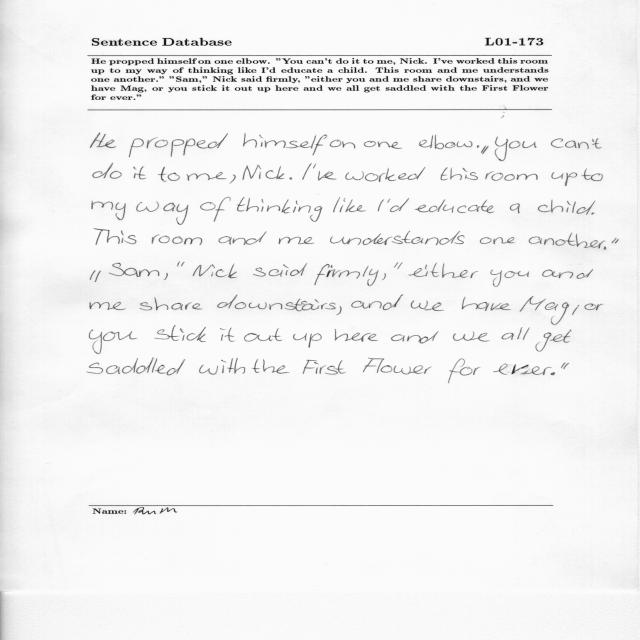word: (129, 134, 228, 158), (237, 197, 322, 222), (217, 295, 336, 312), (330, 231, 464, 245), (243, 133, 327, 155), (87, 358, 185, 376), (314, 264, 379, 286), (520, 296, 569, 325), (529, 233, 606, 250), (137, 201, 189, 225), (345, 167, 426, 182), (90, 330, 138, 355), (363, 358, 432, 375), (415, 200, 495, 214), (409, 263, 478, 278), (495, 137, 537, 161), (538, 199, 595, 215), (154, 325, 206, 342), (448, 359, 481, 384), (140, 297, 202, 310), (419, 135, 472, 150), (536, 330, 572, 352), (199, 358, 245, 375), (351, 295, 403, 310), (200, 197, 231, 222), (253, 263, 307, 277), (94, 228, 137, 245), (109, 263, 159, 277), (462, 297, 511, 311), (243, 164, 285, 180), (219, 231, 267, 245), (491, 270, 530, 287), (193, 264, 237, 279), (493, 364, 552, 375), (92, 201, 126, 220), (303, 360, 346, 375), (391, 331, 439, 344), (252, 359, 290, 374), (551, 138, 602, 149), (335, 329, 378, 342), (485, 171, 538, 181), (152, 235, 203, 245), (542, 269, 593, 279), (333, 197, 366, 212), (440, 167, 478, 180), (244, 328, 282, 341), (93, 163, 122, 179), (293, 333, 322, 348), (313, 164, 337, 181), (90, 133, 116, 148), (501, 327, 530, 340), (551, 172, 577, 186), (187, 172, 227, 181), (453, 332, 489, 342), (158, 167, 180, 182), (411, 301, 444, 311), (387, 198, 409, 212), (364, 141, 402, 149), (90, 302, 126, 310), (581, 169, 603, 182), (279, 237, 315, 244), (480, 237, 515, 244), (220, 328, 235, 342), (330, 140, 355, 148), (133, 167, 146, 180), (302, 164, 311, 180), (585, 304, 604, 311), (91, 270, 102, 282), (510, 204, 520, 214), (378, 199, 384, 212), (572, 305, 579, 315), (481, 146, 489, 154), (394, 262, 403, 269), (230, 174, 236, 184), (561, 362, 569, 369), (337, 306, 342, 315), (177, 262, 185, 267), (164, 273, 168, 280), (382, 273, 386, 280), (612, 238, 617, 243), (615, 239, 619, 243), (550, 373, 555, 376), (289, 177, 292, 180), (591, 213, 595, 215), (477, 145, 479, 148)
